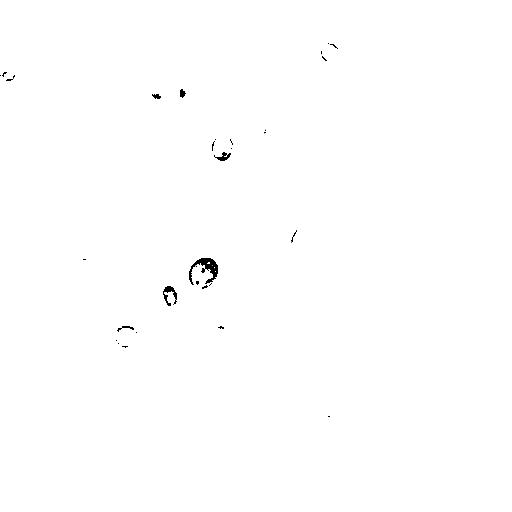micro-algae: (55, 50, 112, 106), (188, 255, 220, 289), (73, 247, 102, 278), (289, 225, 314, 258), (249, 250, 280, 276), (263, 117, 287, 147), (210, 133, 234, 163), (112, 324, 140, 347), (318, 41, 340, 64), (161, 286, 178, 306), (2, 68, 16, 81), (178, 85, 188, 98)
